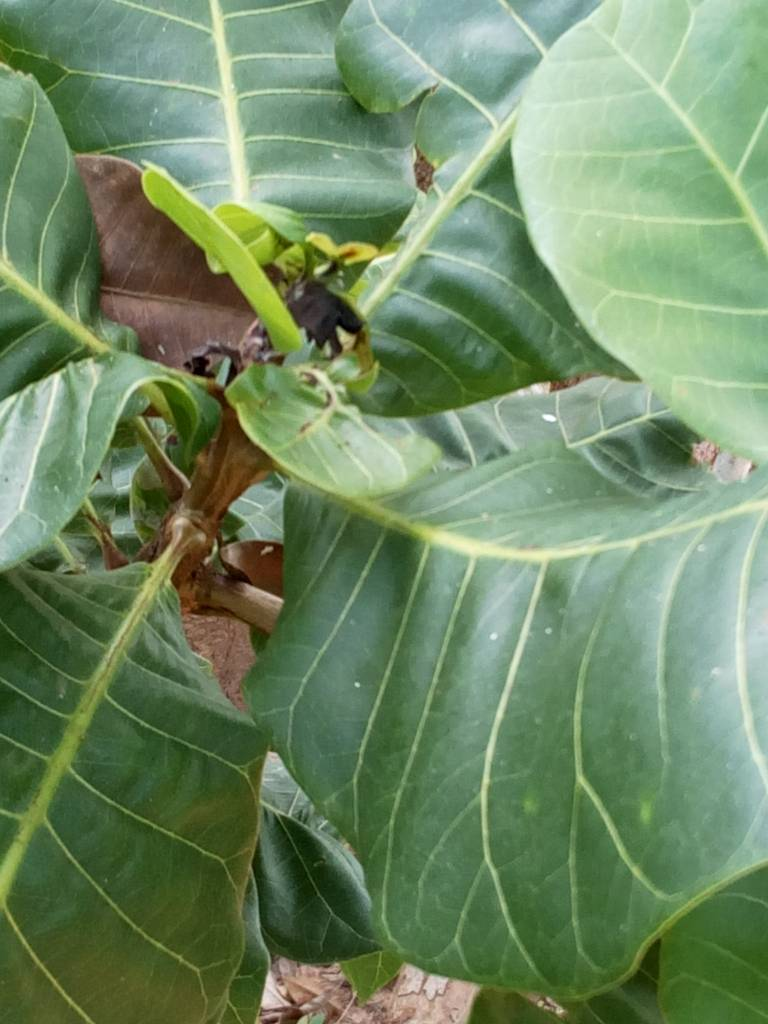Dessèchement des bourgeons: (297, 280, 365, 341)
